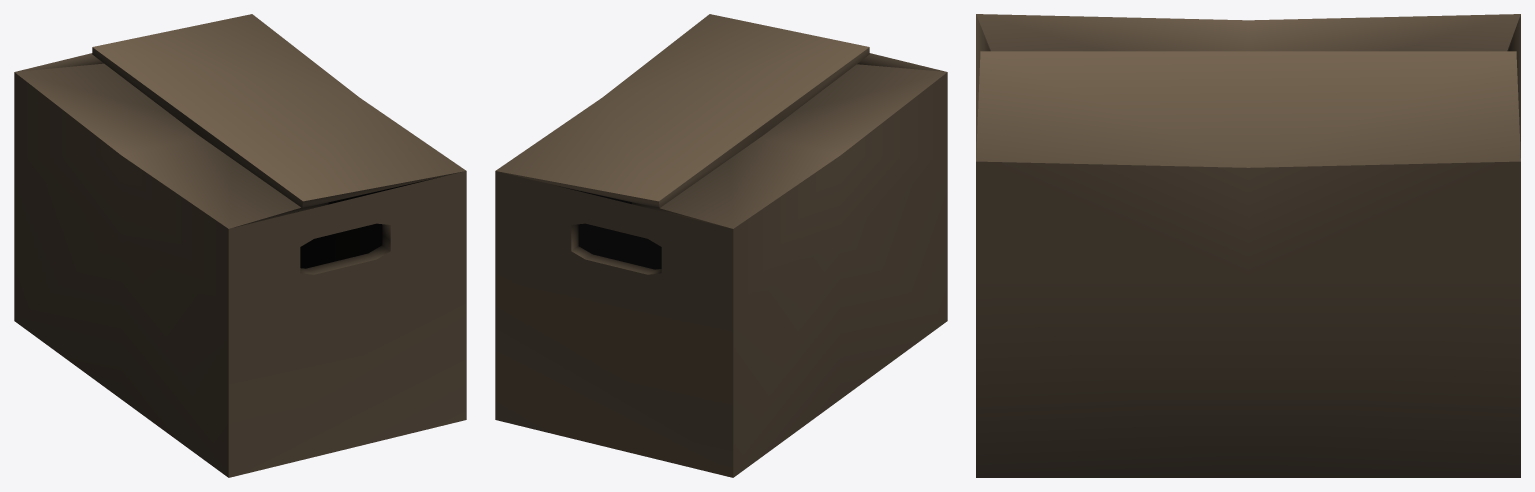
The model's file is human-containers-cardboard-box_v2.glb.
The picture shows the model from 3 angles, left to right: view 1: azimuth 30°, elevation 25°; view 2: azimuth 150°, elevation 25°; view 3: azimuth 270°, elevation 25°; orthographic projection. The views are drawn at different scales.
Visible parts, largest first — view 1: Cardboard Box_v2; view 2: Cardboard Box_v2; view 3: Cardboard Box_v2.
Boxes of the visible parts, box(x1,y1,x2,y2) form: Cardboard Box_v2: box(14, 14, 466, 477); Cardboard Box_v2: box(495, 14, 947, 477); Cardboard Box_v2: box(976, 14, 1520, 477).
Size of the model in its own units: 0.3204 by 0.3303 by 0.5.
